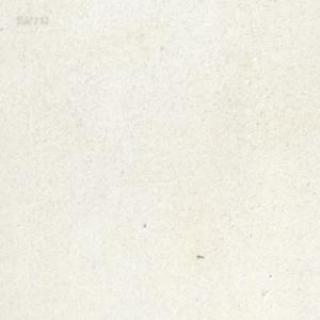Nailtrack_idkeyframe: (196, 252, 203, 258)
